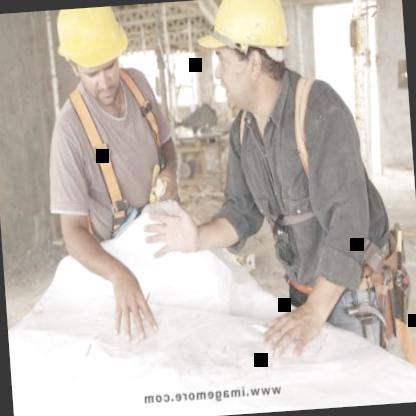helmet: (198, 0, 300, 116), (53, 5, 138, 106)
